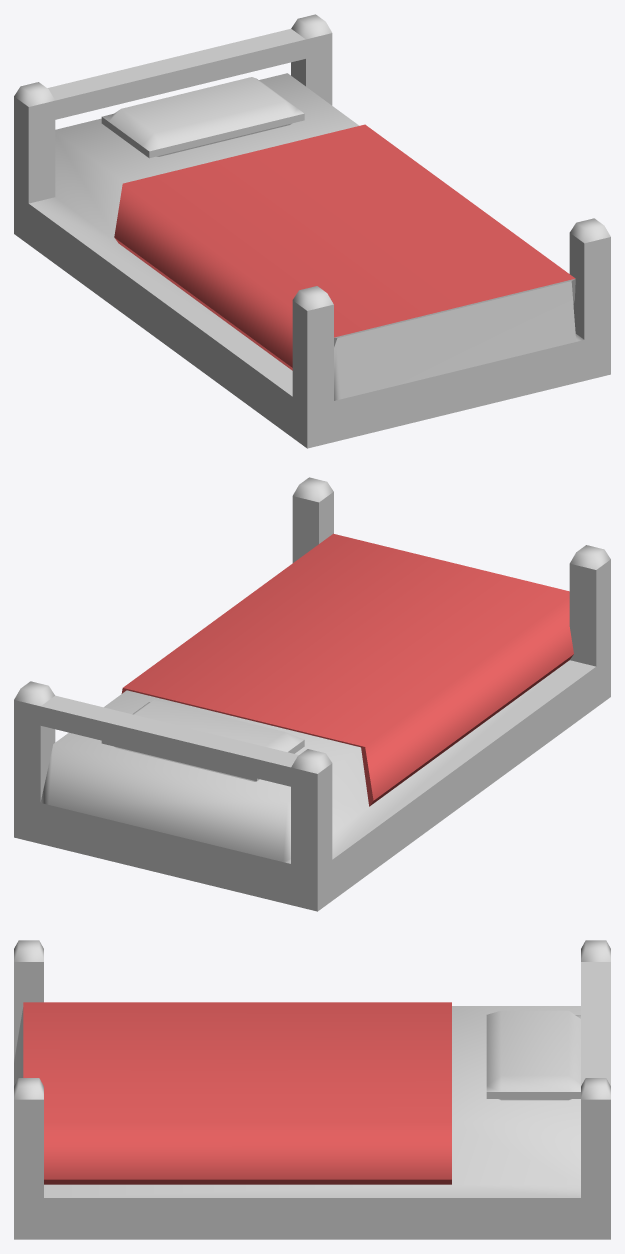
File: UpgradedBed.fbx
The picture shows the model from 3 angles, top to bottom: view 1: azimuth 30°, elevation 25°; view 2: azimuth 150°, elevation 25°; view 3: azimuth 270°, elevation 25°; orthographic projection.
Visible parts, largest first — view 1: PremiumBed, Pillow; view 2: PremiumBed, Pillow; view 3: PremiumBed, Pillow.
Part boxes in pixels (box(x1,y1,x2,y2)): PremiumBed: box(14, 14, 610, 448); Pillow: box(101, 77, 304, 158); PremiumBed: box(14, 477, 610, 911); Pillow: box(101, 700, 304, 781); PremiumBed: box(14, 940, 610, 1239); Pillow: box(486, 1010, 580, 1100).
Size of the model in its own units: 6.74 by 3.14 by 11.27.
